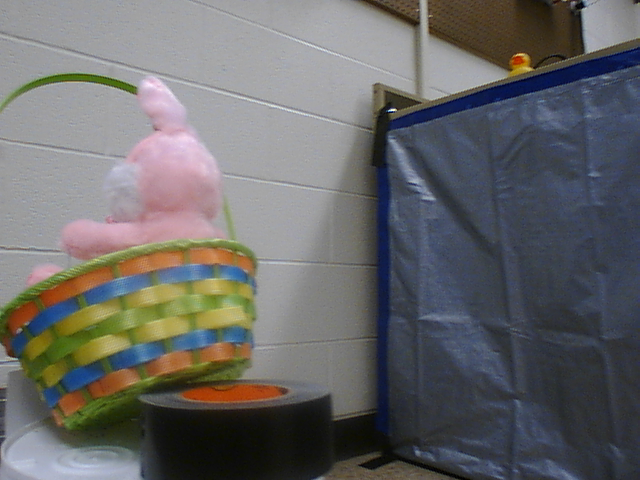bunny: (1, 67, 254, 435)
